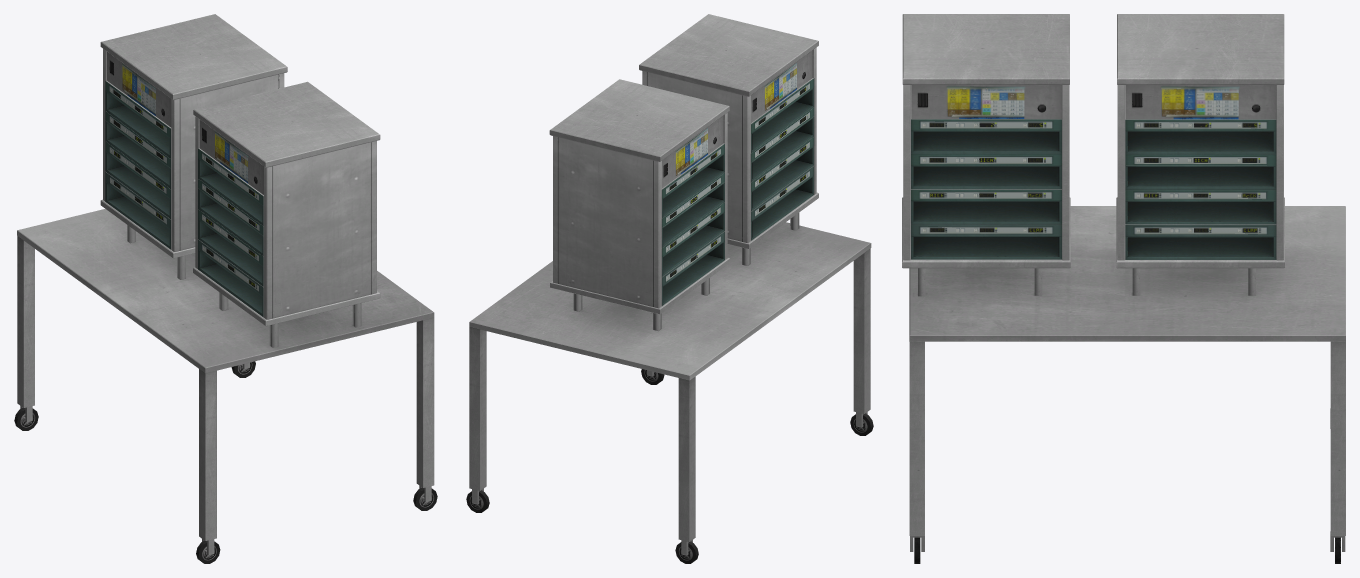
File: S_MchnFodE_0_001.FBX
3 views of the same model, side by side, from view 1: azimuth 30°, elevation 25°; view 2: azimuth 150°, elevation 25°; view 3: azimuth 270°, elevation 25° (orthographic). The views are drawn at different scales.
Parts seen in each view (by area): view 1: S_MchnFodE_001, S_MchnFodETable, S_MchnFodE_002; view 2: S_MchnFodE_002, S_MchnFodETable, S_MchnFodE_001; view 3: S_MchnFodETable, S_MchnFodE_001, S_MchnFodE_002.
Part boxes in pixels (x1,y1,x2,y2): S_MchnFodE_001: (193,81,380,347); S_MchnFodETable: (14,209,437,563); S_MchnFodE_002: (100,14,287,279); S_MchnFodE_002: (549,79,729,330); S_MchnFodETable: (466,222,873,563); S_MchnFodE_001: (639,14,818,265); S_MchnFodETable: (909,206,1345,563); S_MchnFodE_001: (902,14,1070,296); S_MchnFodE_002: (1116,14,1284,295).
Size of the model in its own units: 40.5 by 63.64 by 56.24.
2 materials, 2 textured.
